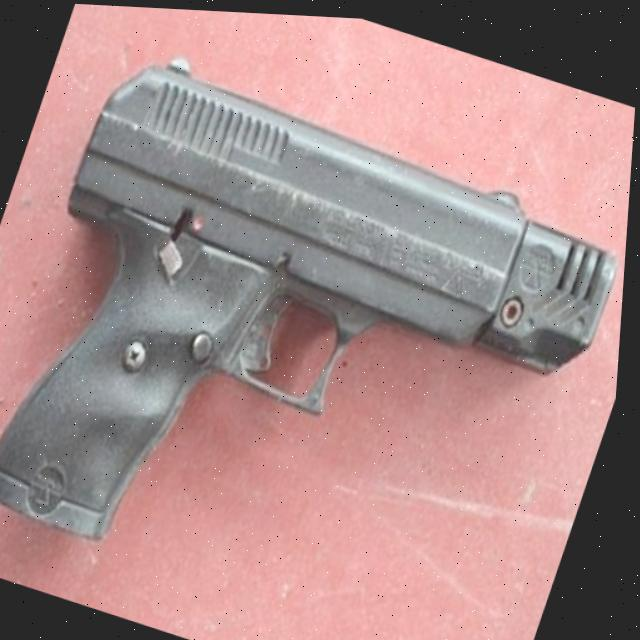pistol: (0, 29, 638, 640)
